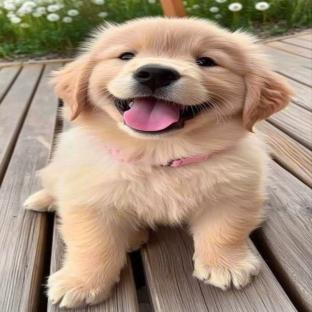Animal: (25, 18, 292, 308)
